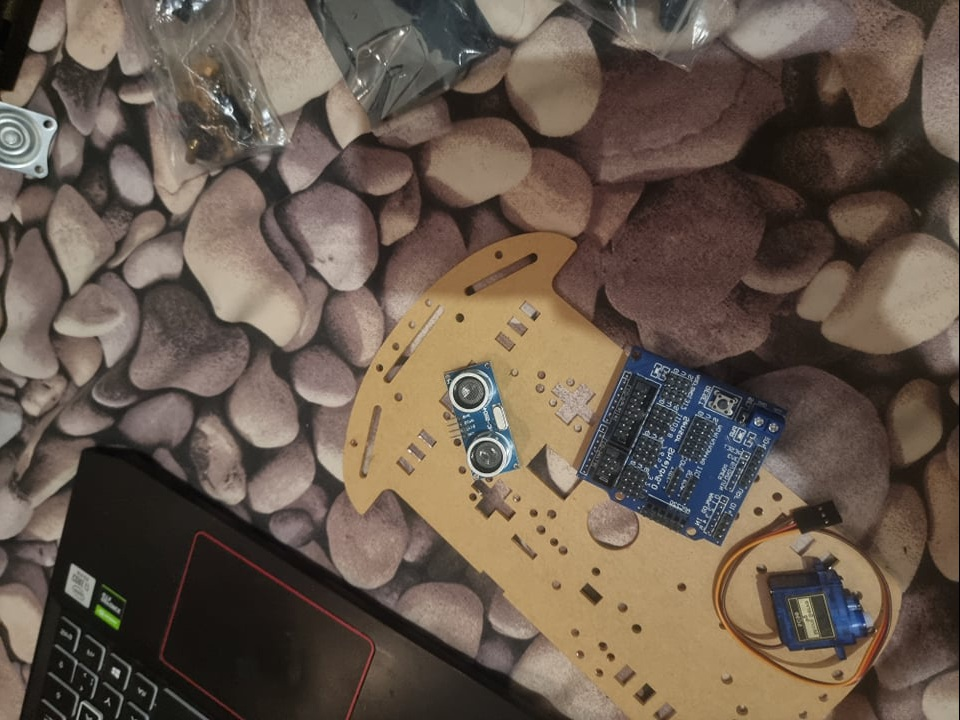5V EXPANSION: (578, 343, 786, 547)
SENSOR: (444, 363, 525, 479)
